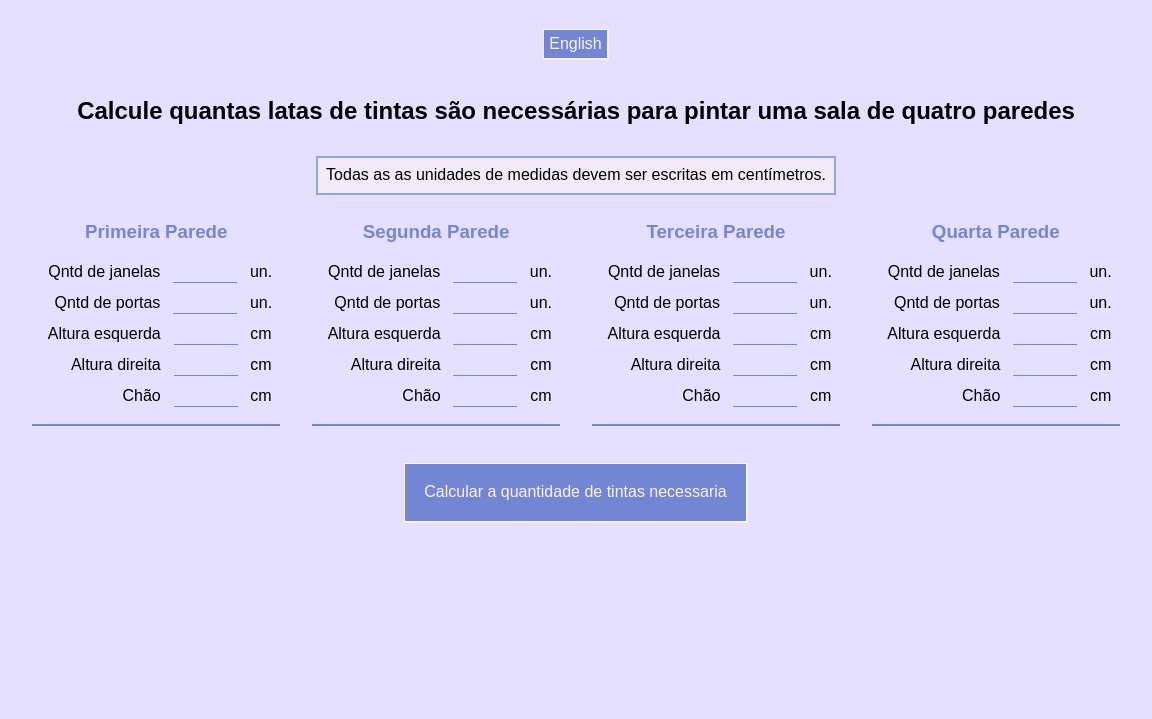
Test case: PaintCalculator › should show error message if button pressed without any inputs
Click the button "Calcular a quantidade de tintas necessaria": [576, 493] box [404, 463, 748, 523]
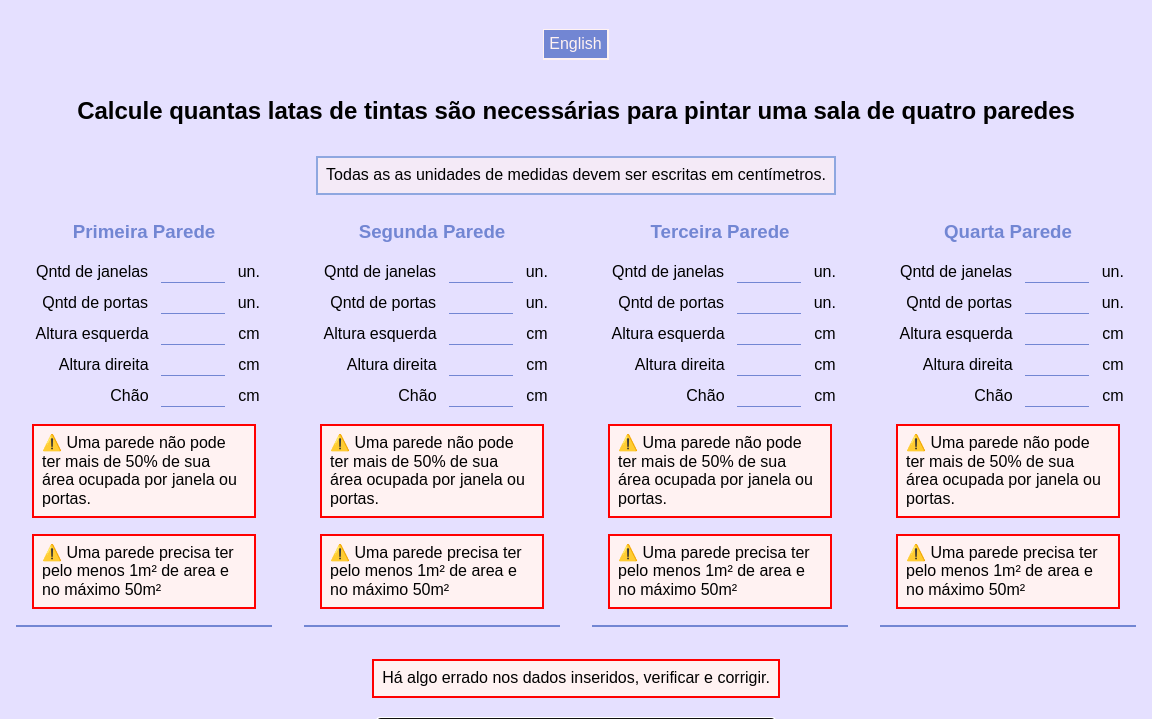
Check: the text "Há algo errado nos dados inseridos, verificar e corrigir." is shown, box [372, 659, 780, 698]
